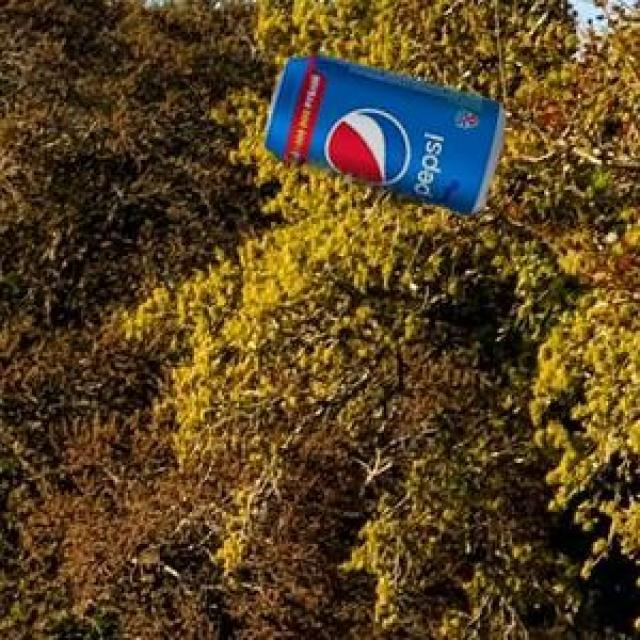Can: (261, 52, 502, 210)
